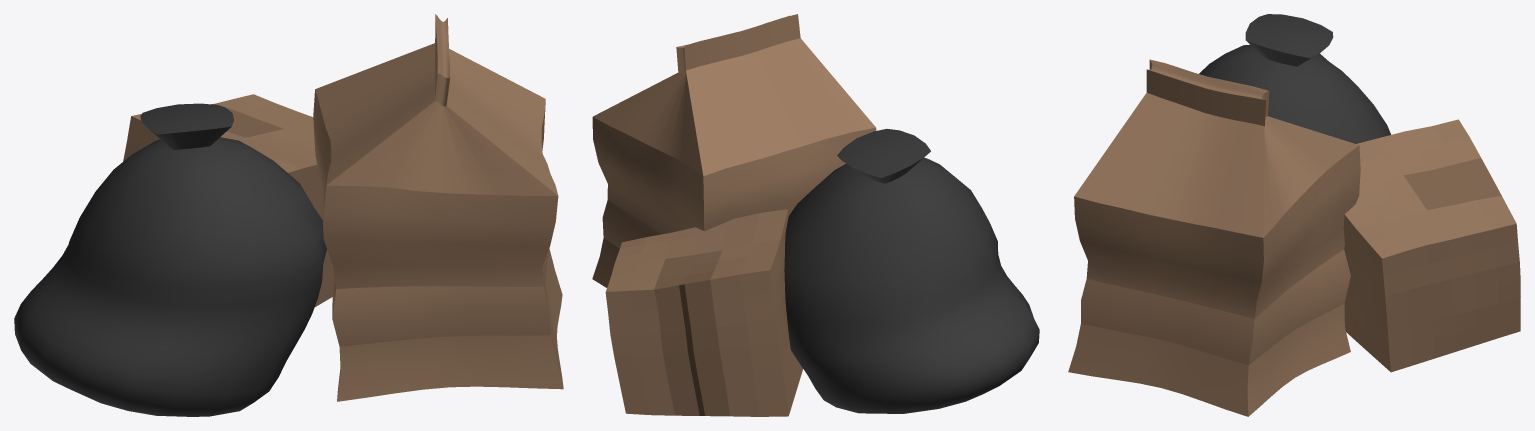
File: dechets2.glb
The picture shows the model from 3 angles, left to right: view 1: azimuth 30°, elevation 25°; view 2: azimuth 150°, elevation 25°; view 3: azimuth 270°, elevation 25°; orthographic projection. The views are drawn at different scales.
Parts seen in each view (by area): view 1: Cube.027; view 2: Cube.027; view 3: Cube.027.
Boxes of the visible parts, x1,y1,x2,y2 form: Cube.027: [14, 14, 563, 416]; Cube.027: [592, 14, 1039, 416]; Cube.027: [1068, 14, 1520, 416].
Bounding box in the file's own units: 7.19 × 4.48 × 6.1.
